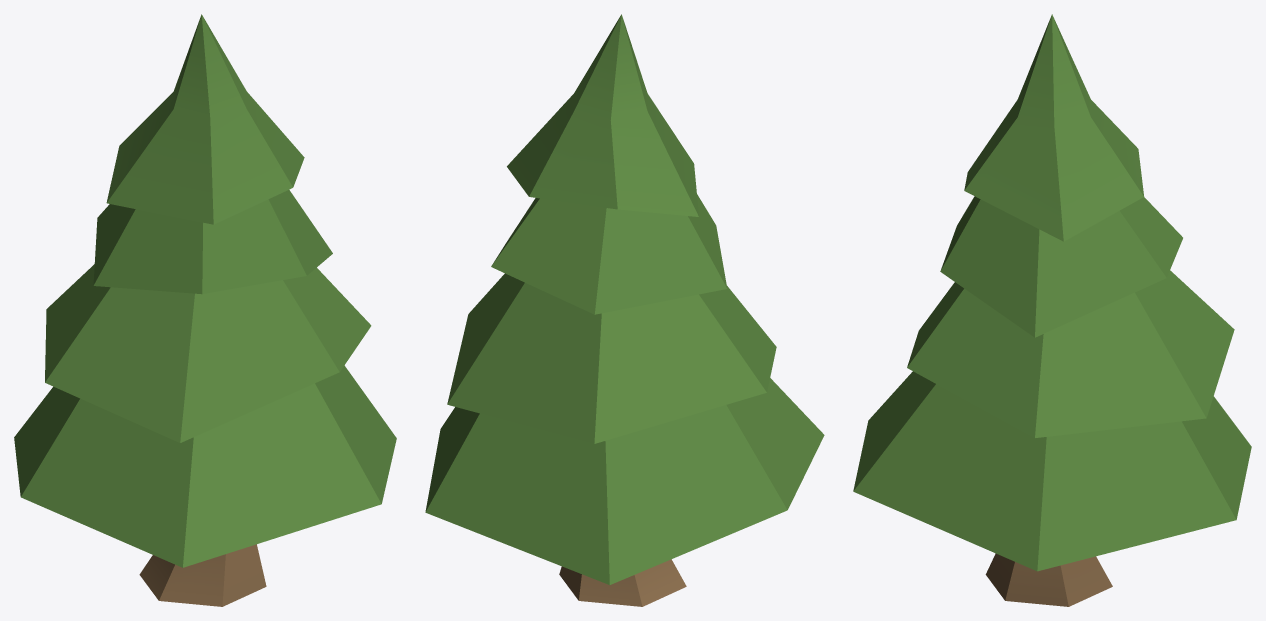
Rendered from pine_small_2.fbx.
3 views of the same model, side by side, from view 1: azimuth 30°, elevation 25°; view 2: azimuth 150°, elevation 25°; view 3: azimuth 270°, elevation 25° (orthographic).
Visible parts, largest first — view 1: pine_small_2; view 2: pine_small_2; view 3: pine_small_2.
Boxes of the visible parts, x1,y1,x2,y2 form: pine_small_2: [14, 14, 396, 606]; pine_small_2: [425, 14, 824, 606]; pine_small_2: [853, 14, 1251, 606].
Size of the model in its own units: 126 by 189 by 121.
1 material, 1 textured.
